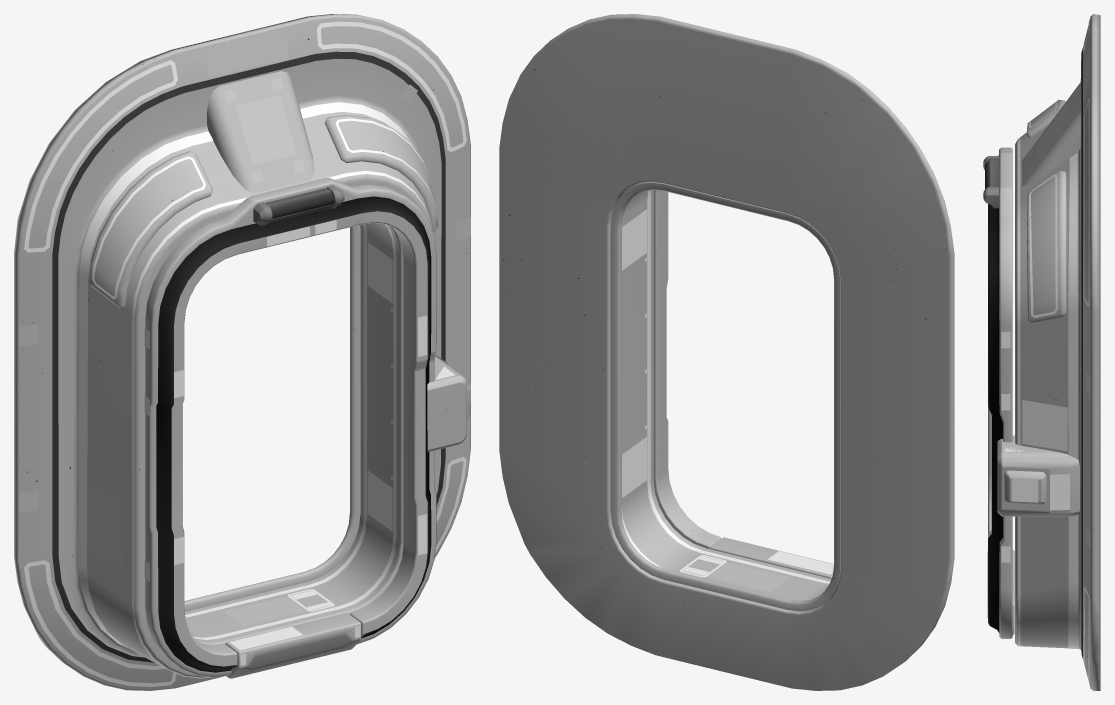
Rendered from SM_DoorFrame_1_Merged.fbx.
3 views of the same model, side by side, from view 1: azimuth 30°, elevation 25°; view 2: azimuth 150°, elevation 25°; view 3: azimuth 270°, elevation 25° (orthographic). The views are drawn at different scales.
Parts seen in each view (by area): view 1: SM_DoorFrame_1_Merged_LOD0; view 2: SM_DoorFrame_1_Merged_LOD0; view 3: SM_DoorFrame_1_Merged_LOD0.
Boxes of the visible parts, x1,y1,x2,y2 form: SM_DoorFrame_1_Merged_LOD0: (14, 14, 470, 690); SM_DoorFrame_1_Merged_LOD0: (499, 14, 954, 690); SM_DoorFrame_1_Merged_LOD0: (983, 14, 1100, 690).
Size of the model in its own units: 306 by 74.11 by 409.
